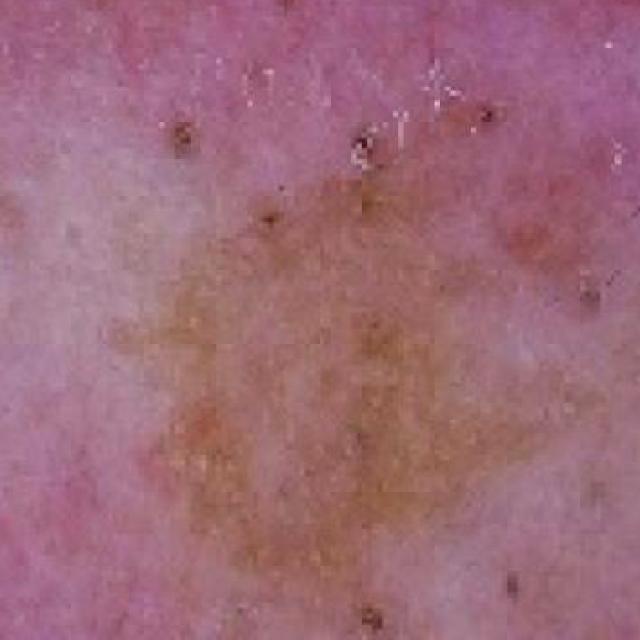BKL: (89, 50, 640, 640)
